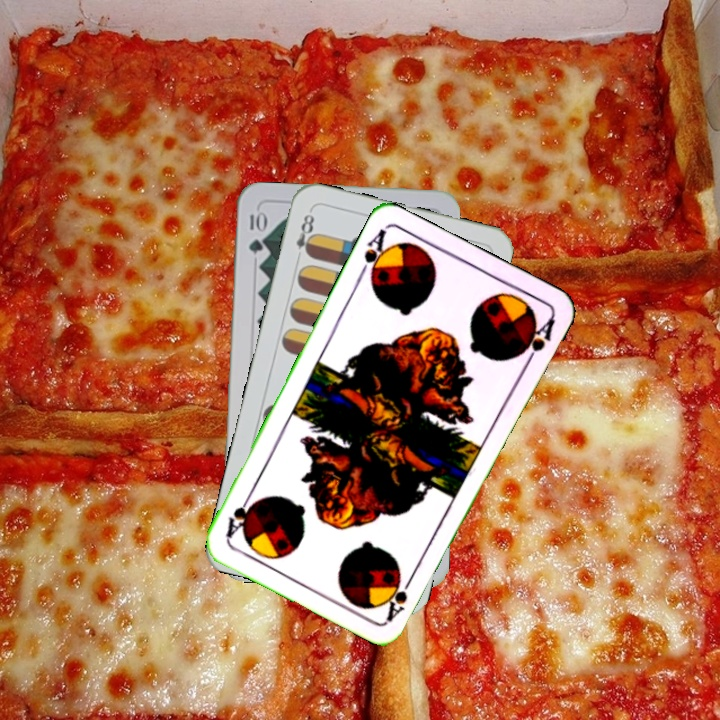E8: (291, 207, 318, 259)
G10: (245, 208, 266, 256)
SA: (354, 225, 392, 286), (382, 568, 418, 623)
